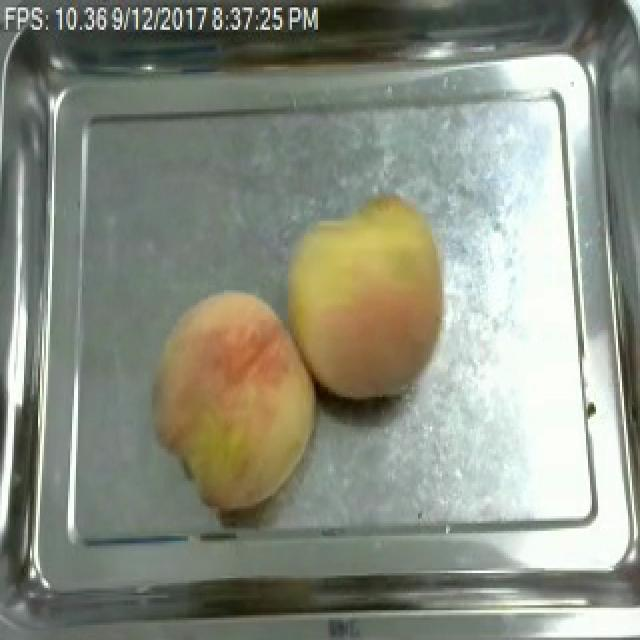Fruit: (142, 286, 326, 514), (278, 186, 454, 409)
